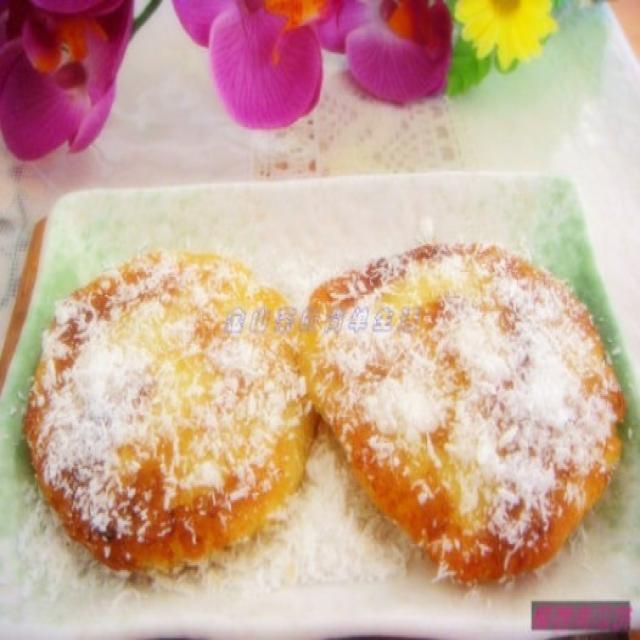炸货点心: (16, 190, 625, 608)
蛋糕甜品: (16, 190, 625, 608)
